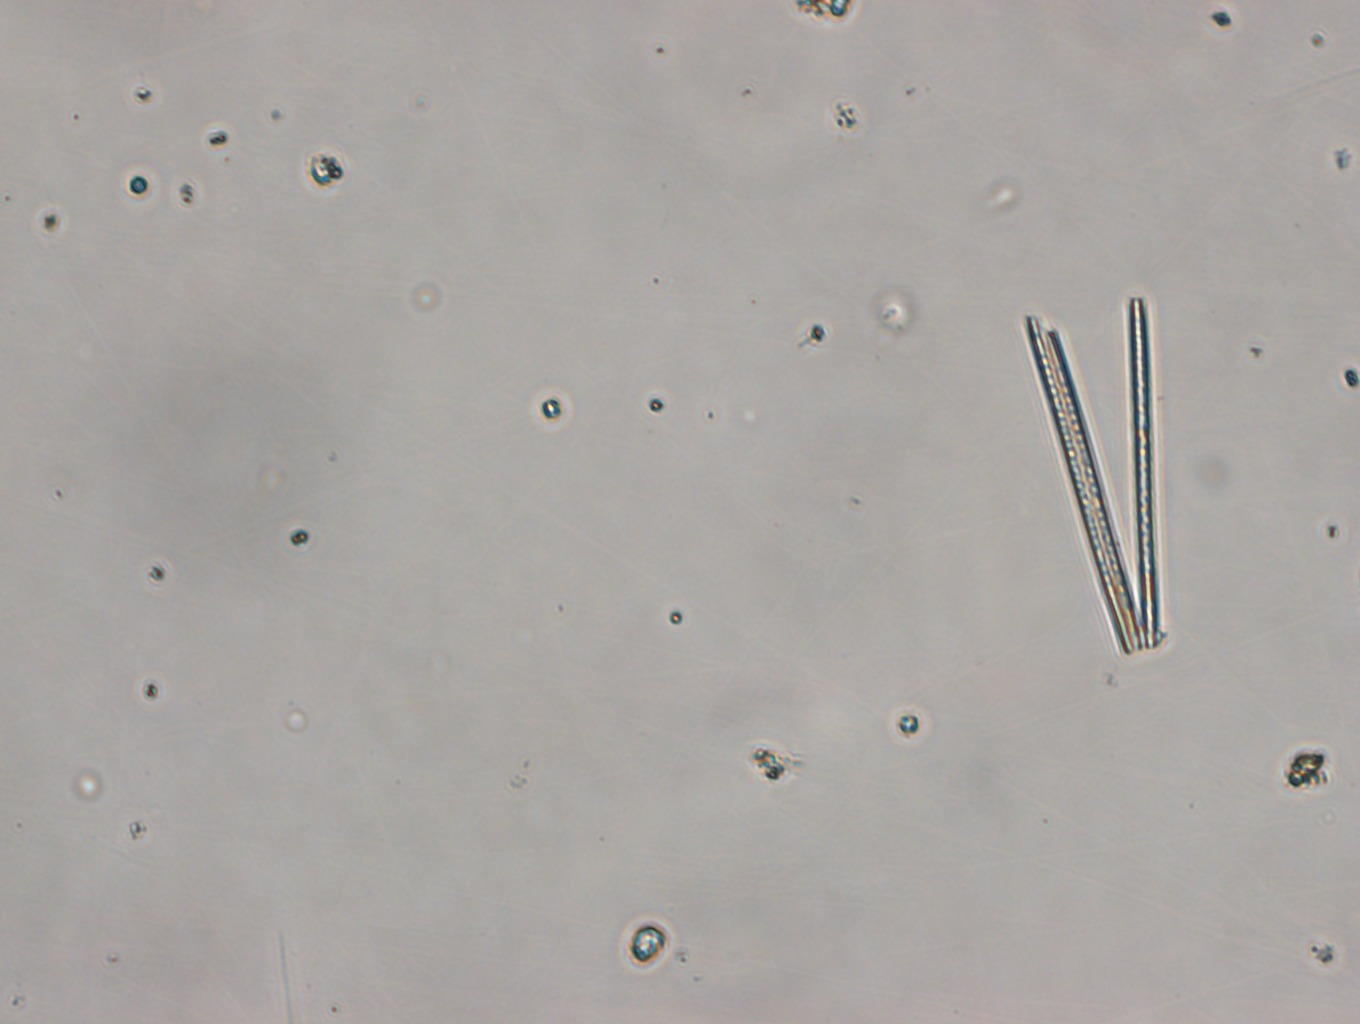thalassionema frauenfeldii: (1023, 295, 1161, 653)
